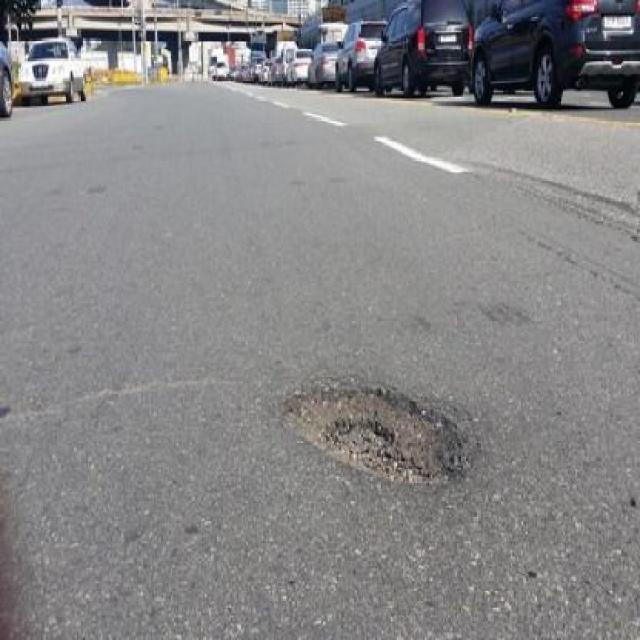Buraco: (272, 379, 478, 500)
